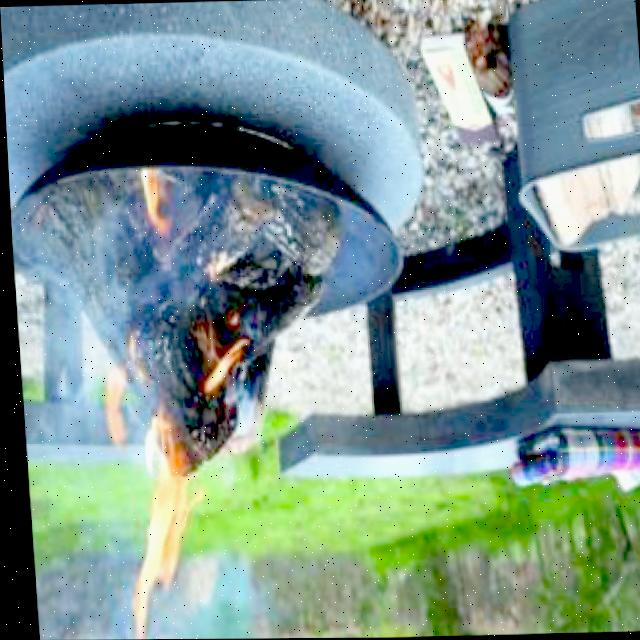Fire: (96, 408, 202, 640), (87, 330, 151, 452), (126, 151, 177, 257)
